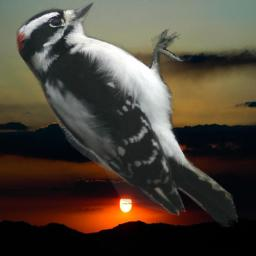Woodpecker: (16, 2, 238, 227)
